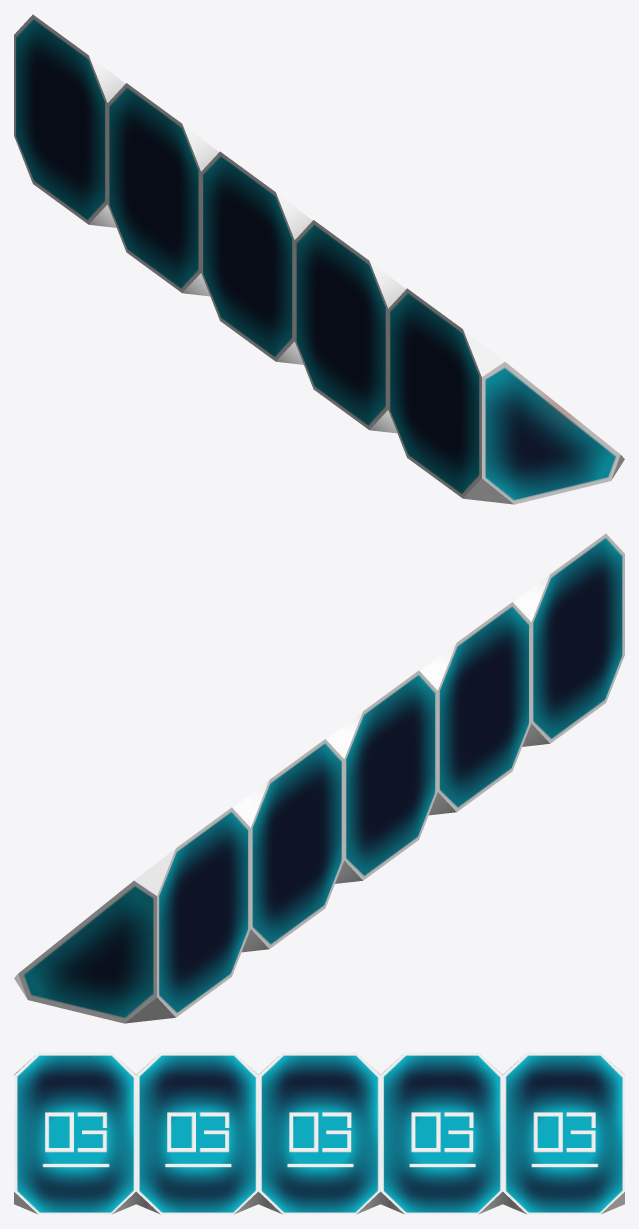
The model's file is MG-ChJ-CS-03FangPo-5.FBX.
3 views of the same model, one above another, from view 1: azimuth 30°, elevation 25°; view 2: azimuth 150°, elevation 25°; view 3: azimuth 270°, elevation 25° (orthographic). The views are drawn at different scales.
Visible parts, largest first — view 1: MG-ChJ-CS-03FangPo-5; view 2: MG-ChJ-CS-03FangPo-5; view 3: MG-ChJ-CS-03FangPo-5.
Boxes of the visible parts, x1=… form: MG-ChJ-CS-03FangPo-5: x1=14, y1=14, x2=624, y2=504; MG-ChJ-CS-03FangPo-5: x1=14, y1=533, x2=624, y2=1023; MG-ChJ-CS-03FangPo-5: x1=14, y1=1052, x2=624, y2=1214.
Size of the model in its own units: 39.37 by 39.37 by 197.
